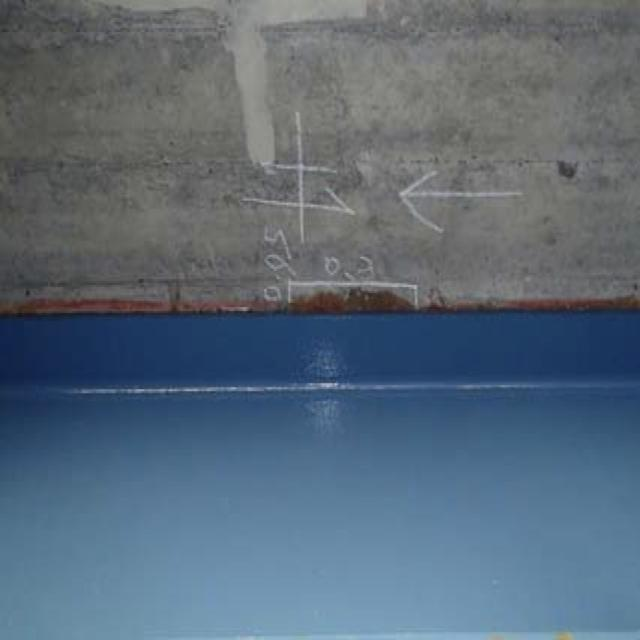corrosion: (10, 283, 640, 331)
